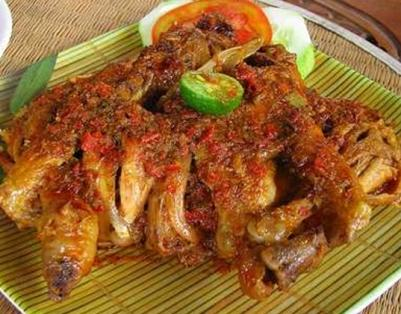ayam_betutu: (2, 28, 401, 301)
